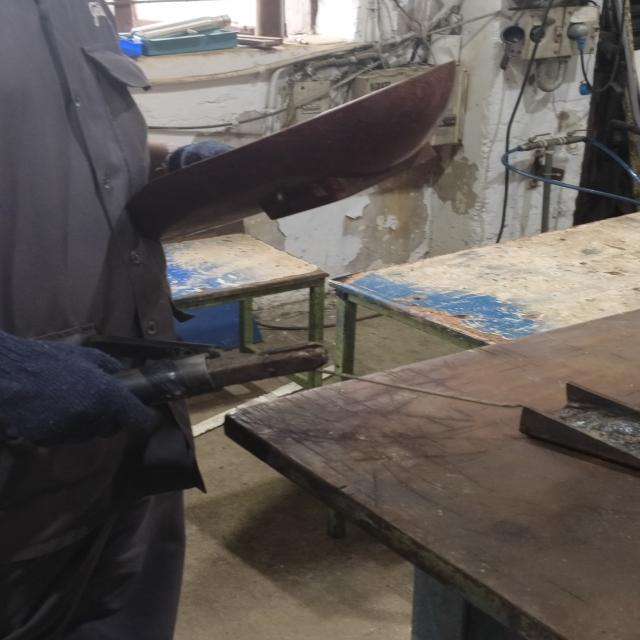Gloves-Detection: (6, 334, 178, 442)
